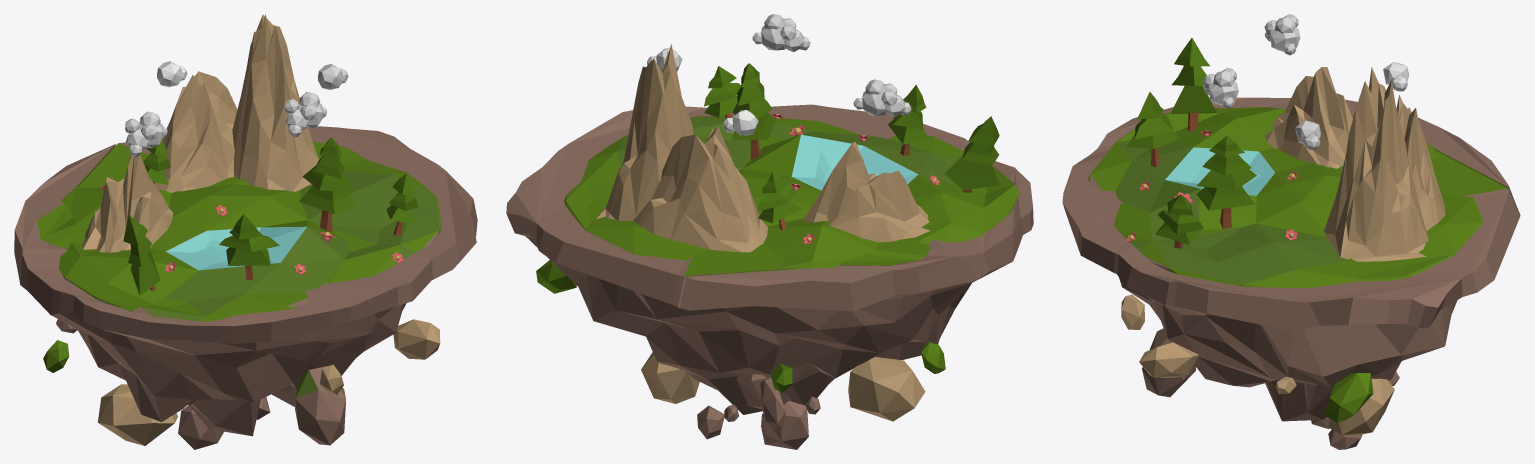
Rendered from mountain-med.gltf.
3 views of the same model, side by side, from view 1: azimuth 30°, elevation 25°; view 2: azimuth 150°, elevation 25°; view 3: azimuth 270°, elevation 25° (orthographic). The views are drawn at different scales.
Visible parts, largest first — view 1: clloud, mountain-large, mountain-med, mountain-small, three-big, clloud.005, clloud.006, clloud.008, cloud-big, three-small, clloud.014, cloud-small (+1 smaller); view 2: clloud, mountain-med, mountain-large, mountain-small, clloud.006, three-big, clloud.014, clloud.008, cloud-big, clloud.005, three-small, cloud-small; view 3: clloud, mountain-large, mountain-small, three-big, mountain-med, clloud.006, clloud.005, three-small, clloud.008, cloud-big, clloud.007, cloud-small.
Part boxes in pixels (x1=…): clloud: x1=14, y1=126, x2=477, y2=449; mountain-large: x1=232, y1=14, x2=318, y2=191; mountain-med: x1=155, y1=71, x2=237, y2=192; mountain-small: x1=82, y1=154, x2=172, y2=252; three-big: x1=298, y1=137, x2=357, y2=231; clloud.005: x1=219, y1=214, x2=279, y2=279; clloud.006: x1=123, y1=214, x2=160, y2=295; clloud.008: x1=284, y1=92, x2=326, y2=136; cloud-big: x1=125, y1=111, x2=167, y2=156; three-small: x1=386, y1=173, x2=418, y2=235; clloud.014: x1=143, y1=140, x2=170, y2=184; cloud-small: x1=157, y1=61, x2=187, y2=87; clloud: x1=506, y1=104, x2=1033, y2=449; mountain-med: x1=633, y1=126, x2=767, y2=252; mountain-large: x1=596, y1=44, x2=693, y2=220; mountain-small: x1=802, y1=141, x2=930, y2=242; clloud.006: x1=944, y1=116, x2=999, y2=192; three-big: x1=732, y1=63, x2=776, y2=159; clloud.014: x1=757, y1=171, x2=801, y2=230; clloud.008: x1=752, y1=14, x2=810, y2=51; cloud-big: x1=853, y1=79, x2=911, y2=117; clloud.005: x1=888, y1=85, x2=928, y2=155; three-small: x1=704, y1=66, x2=741, y2=118; cloud-small: x1=723, y1=110, x2=758, y2=135; clloud: x1=1062, y1=97, x2=1520, y2=449; mountain-large: x1=1324, y1=67, x2=1428, y2=261; mountain-small: x1=1265, y1=67, x2=1352, y2=168; three-big: x1=1197, y1=135, x2=1256, y2=228; mountain-med: x1=1396, y1=95, x2=1445, y2=230; clloud.006: x1=1171, y1=38, x2=1216, y2=131; clloud.005: x1=1126, y1=92, x2=1180, y2=166; three-small: x1=1155, y1=194, x2=1203, y2=248; clloud.008: x1=1203, y1=67, x2=1238, y2=108; cloud-big: x1=1264, y1=14, x2=1300, y2=55; clloud.007: x1=1295, y1=120, x2=1321, y2=149; cloud-small: x1=1383, y1=62, x2=1408, y2=91.
Size of the model in its own units: 14.26 by 12.69 by 13.15.
